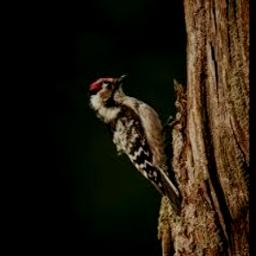Woodpecker: (87, 72, 180, 213)
